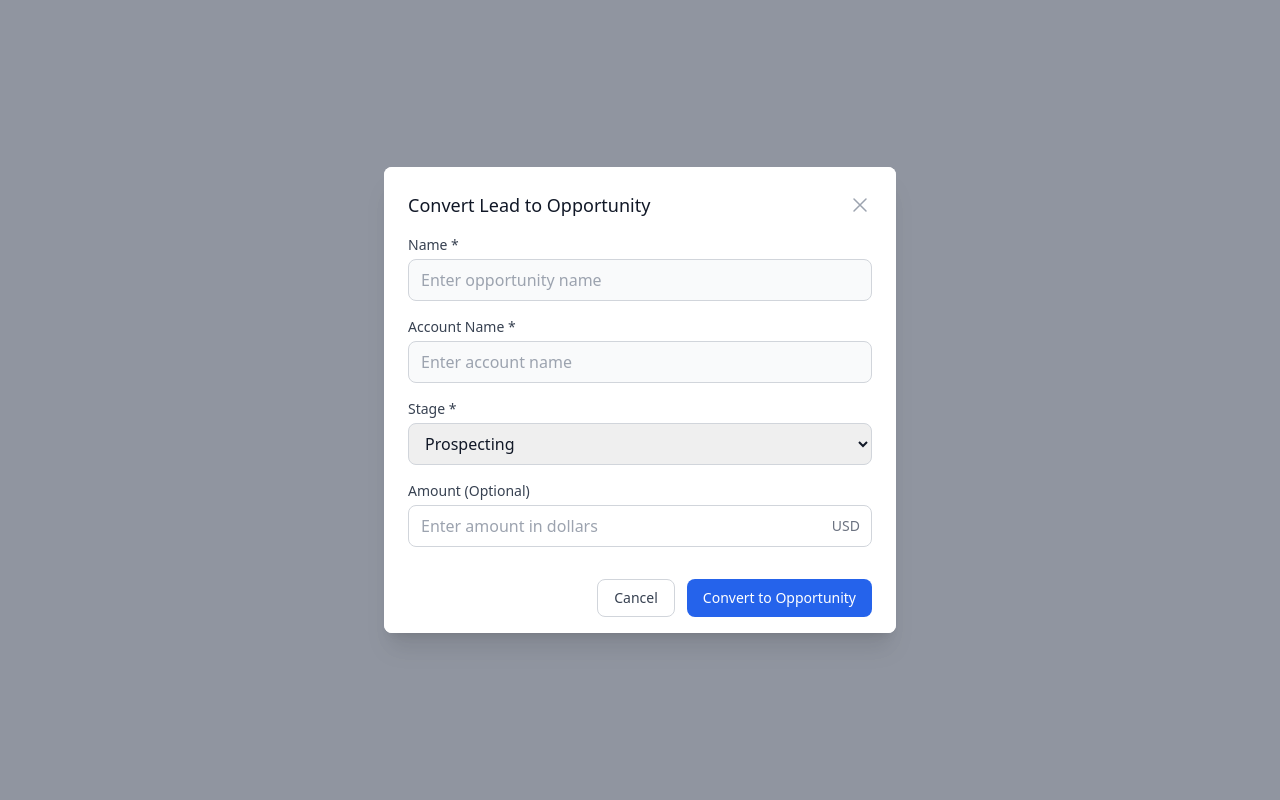
it: ConvertLeadModal › should show validation errors for required fields
What coordinates should you click on to do the following:
click the button "Convert to Opportunity"
I would click on:
 (779, 598)
Its box is [687,579,872,617].
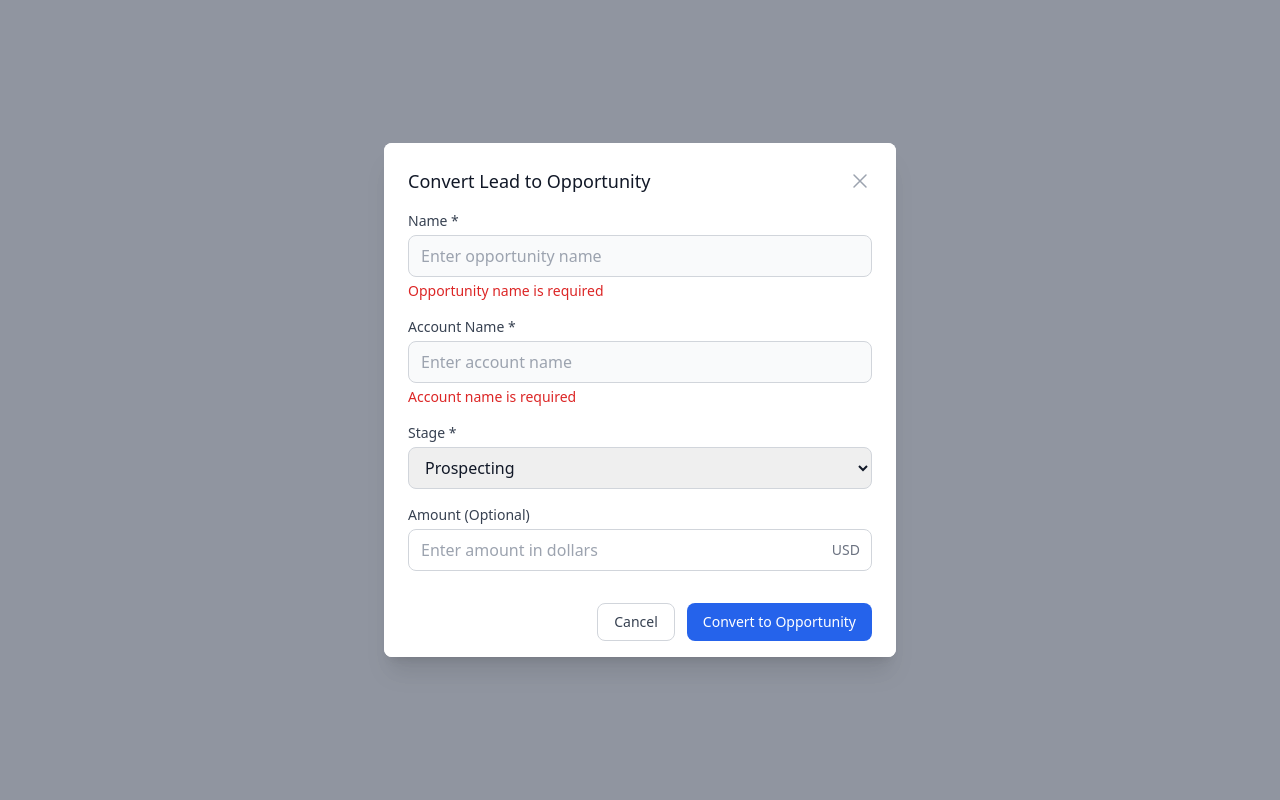
Expected: the text "Opportunity name is required" is shown, [408,281,604,300]
Expected: the text "Account name is required" is shown, [408,387,576,406]
